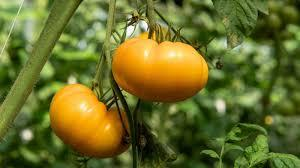Masak: (107, 27, 214, 102), (44, 89, 125, 157)
